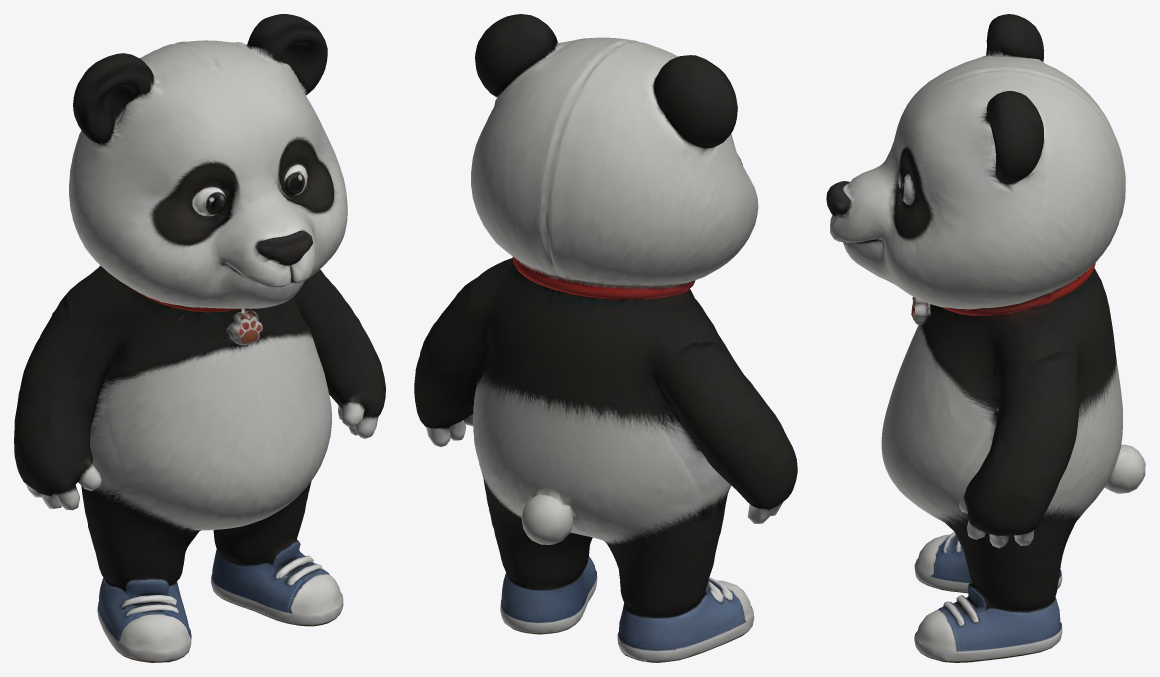
Rendered from panda.glb.
The picture shows the model from 3 angles, left to right: view 1: azimuth 30°, elevation 25°; view 2: azimuth 150°, elevation 25°; view 3: azimuth 270°, elevation 25°; orthographic projection. The views are drawn at different scales.
Visible parts, largest first — view 1: tripo_node_69992b0f-2d2e-407d-9e30-e0302139aeb2; view 2: tripo_node_69992b0f-2d2e-407d-9e30-e0302139aeb2; view 3: tripo_node_69992b0f-2d2e-407d-9e30-e0302139aeb2.
Part boxes in pixels (x1,y1,x2,y2): tripo_node_69992b0f-2d2e-407d-9e30-e0302139aeb2: (14,14,385,662); tripo_node_69992b0f-2d2e-407d-9e30-e0302139aeb2: (414,14,797,662); tripo_node_69992b0f-2d2e-407d-9e30-e0302139aeb2: (826,14,1145,662).
Bounding box in the file's own units: 0.635 × 0.9799 × 0.5086.
Materials: 1 (1 with a texture image).
